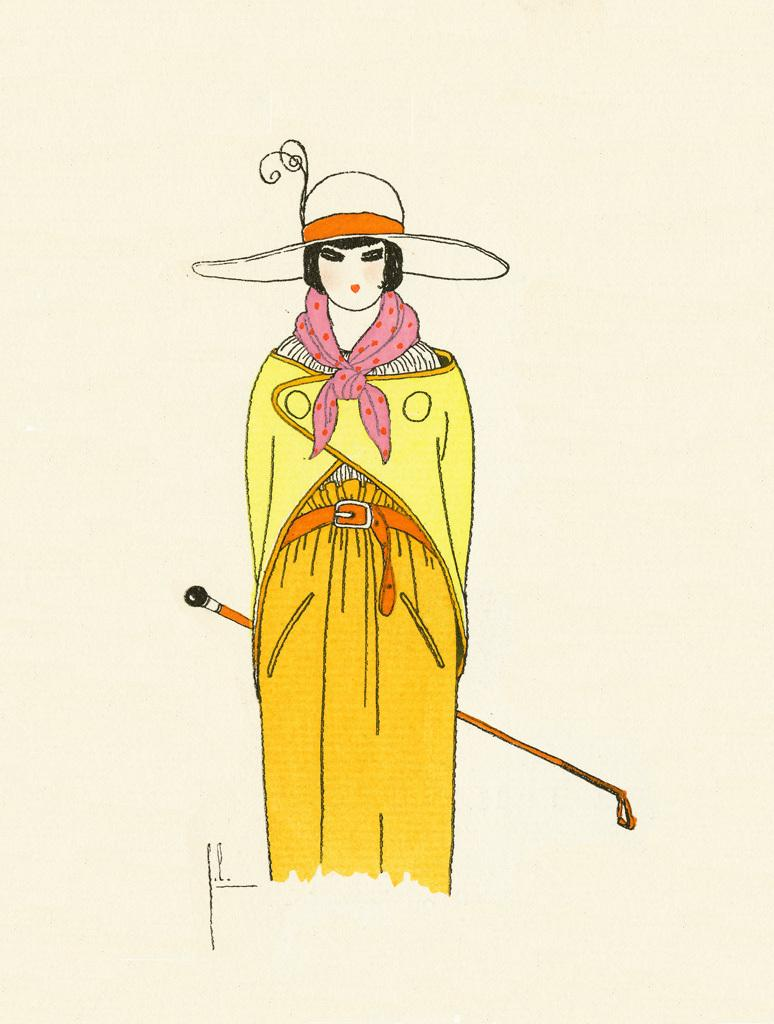Hat: (188, 166, 510, 288)
